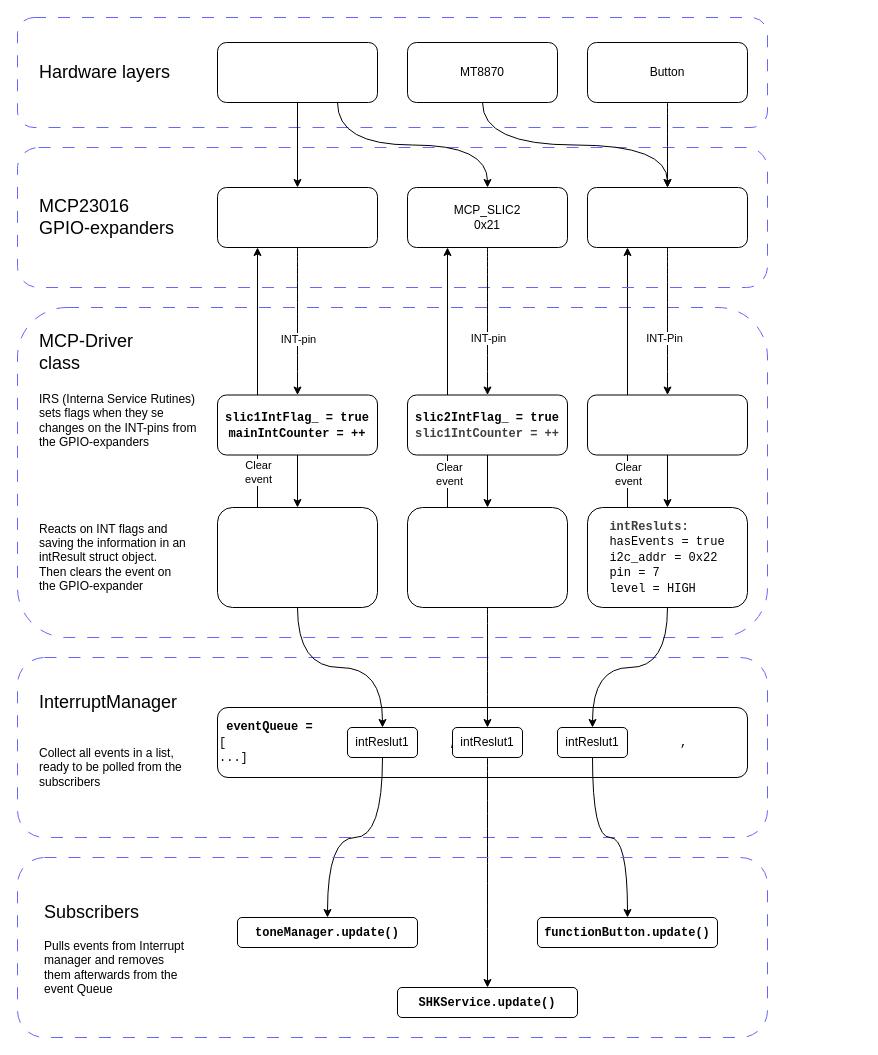
The diagram is 878 pixels wide and 1055 high, and some of its shapes have lost their labels. The centre of each missing label's shape, as x and y in pixels:
intResluts: hasEvents = true i2c_addr = 0x20 pin = 5 level = HIGH: [297,557]
intResluts: hasEvents = true i2c_addr = 0x21 pin = 6 level = HIGH: [487,557]
mainIntFlag_ = true slic2IntCounter = ++: [667,424]
MCP_Main 0x22: [667,217]
MCP_SLIC1 0x20: [297,217]
SLIC pins: [297,72]
